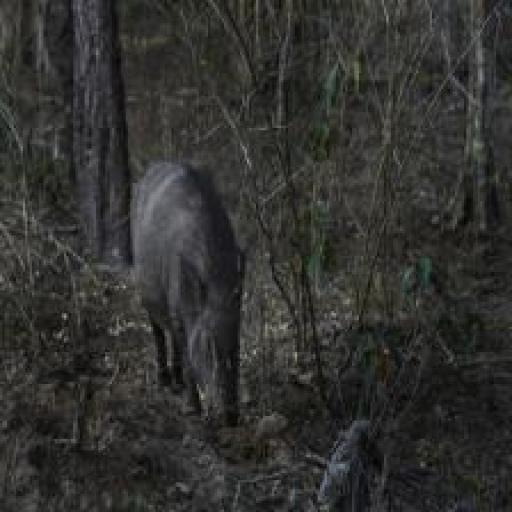Pig: (128, 158, 253, 407)
